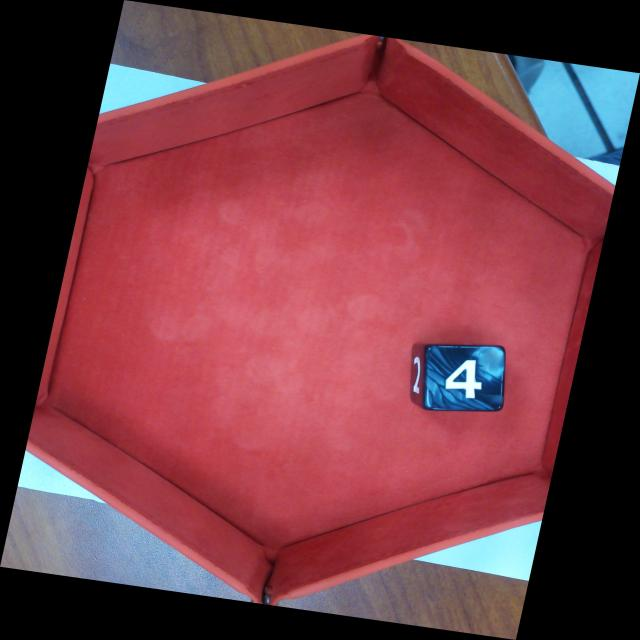dice: (423, 343, 506, 413)
